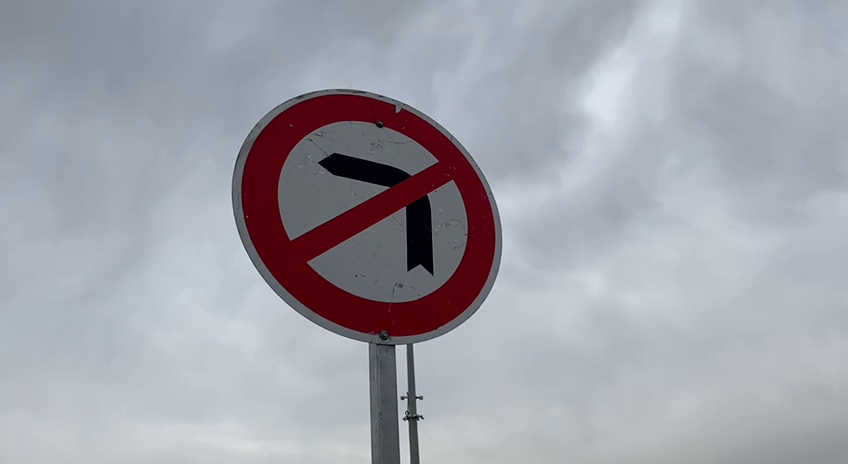noTurnLeft: (223, 84, 508, 347)
